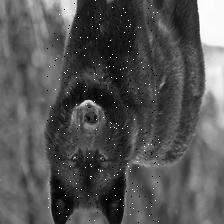WOLF: (47, 0, 160, 223)
